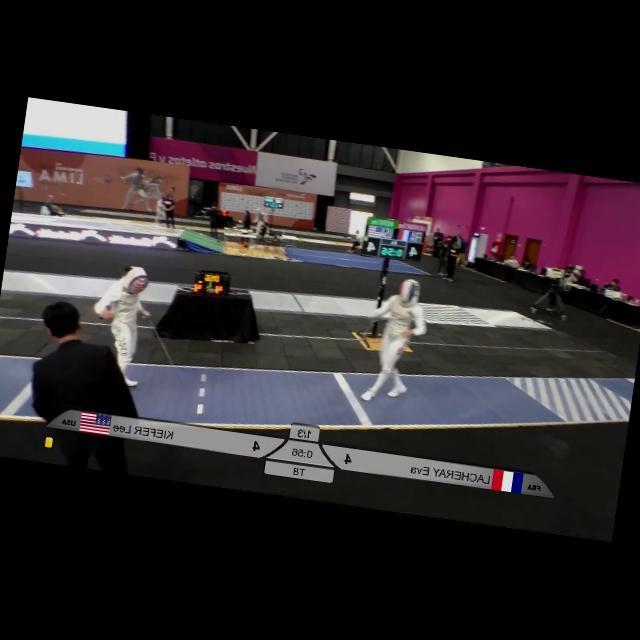blade: (136, 312, 190, 382)
